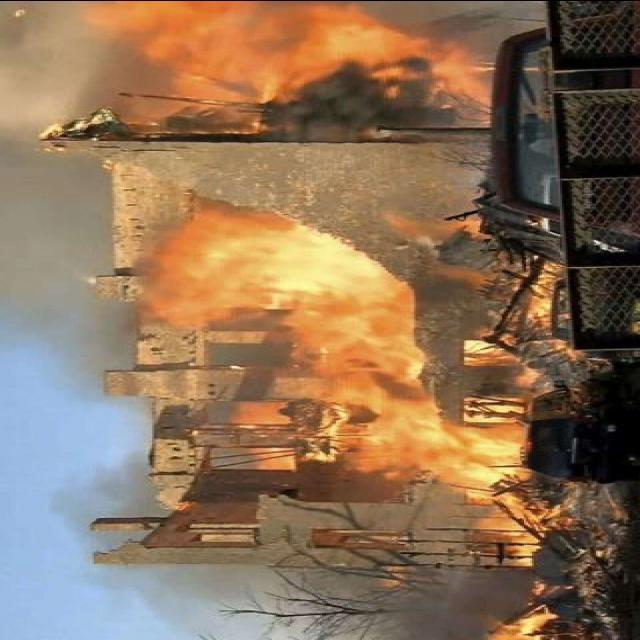Fire: (120, 0, 534, 605)
